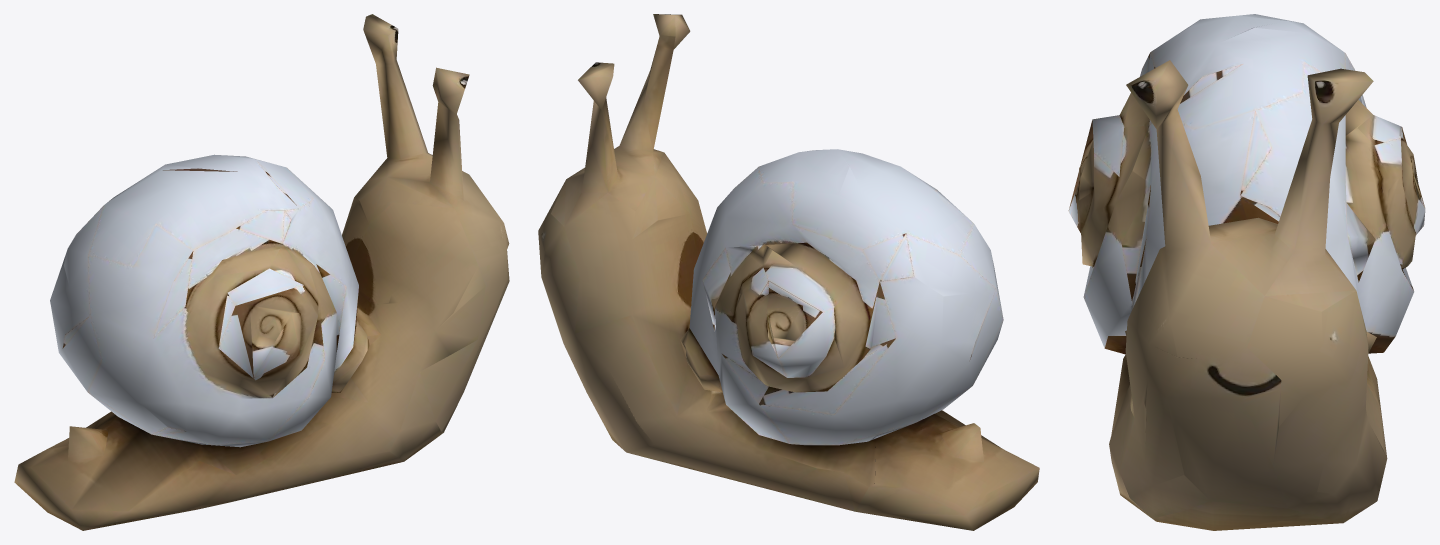
File: toad-thing-cloud-snail.glb
The picture shows the model from 3 angles, left to right: view 1: azimuth 30°, elevation 25°; view 2: azimuth 150°, elevation 25°; view 3: azimuth 270°, elevation 25°; orthographic projection. The views are drawn at different scales.
Parts seen in each view (by area): view 1: lo; view 2: lo; view 3: lo.
Boxes of the visible parts, <box> form: lo: <box>14,14,509,530</box>; lo: <box>538,14,1039,530</box>; lo: <box>1068,14,1425,530</box>.
Bounding box in the file's own units: 0.0347 × 0.0278 × 0.0188.
Materials: 1 (1 with a texture image).
